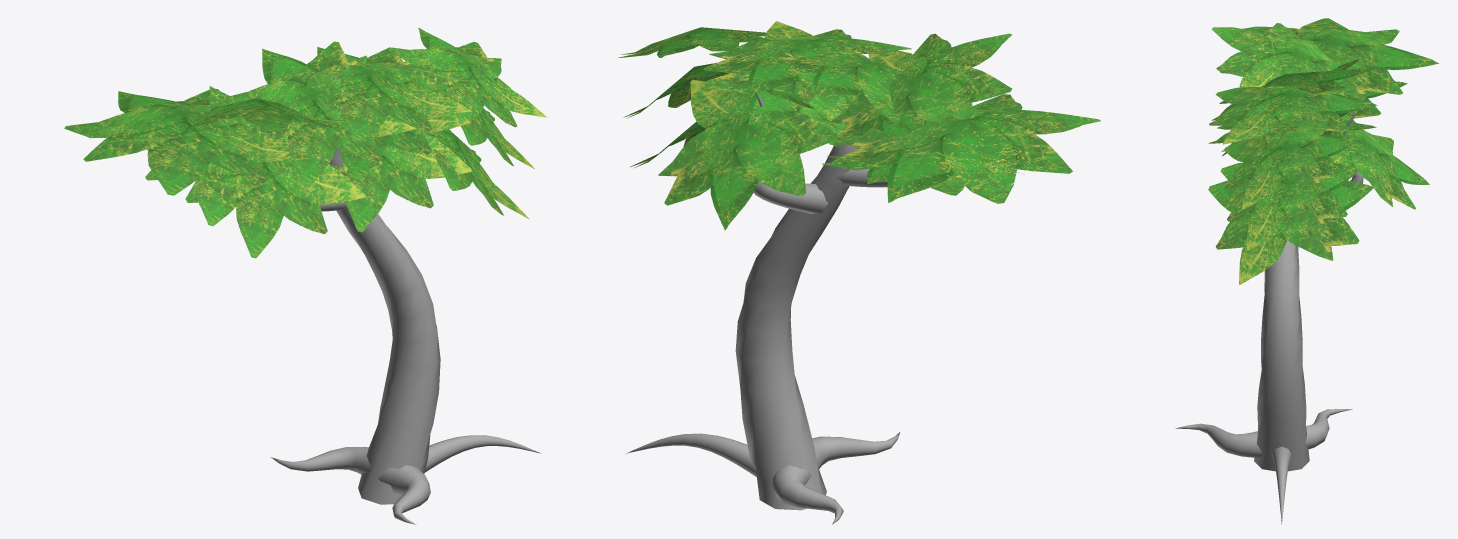
Rendered from Treev2.fbx.
3 views of the same model, side by side, from view 1: azimuth 30°, elevation 25°; view 2: azimuth 150°, elevation 25°; view 3: azimuth 270°, elevation 25° (orthographic). The views are drawn at different scales.
Visible parts, largest first — view 1: Tree; view 2: Tree; view 3: Tree.
Part boxes in pixels (x1,y1,x2,y2): Tree: (64,27,546,524); Tree: (618,21,1100,524); Tree: (1175,18,1438,524).
Size of the model in its own units: 63.1 by 60.88 by 39.44.
